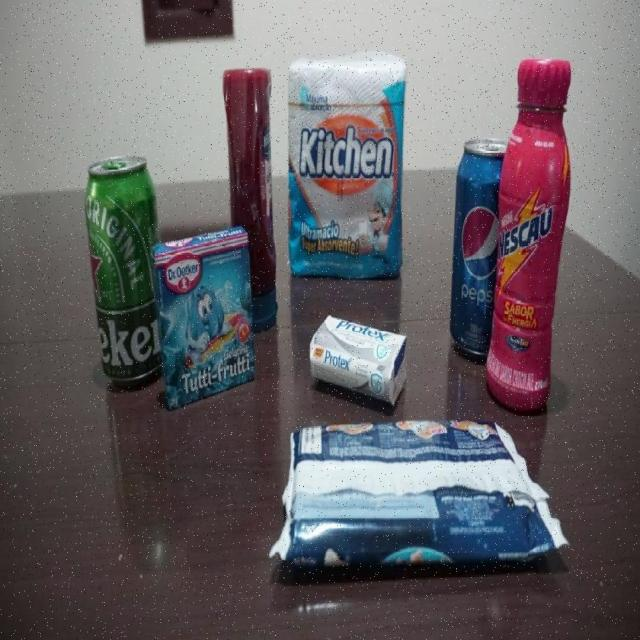BeerCan: (82, 153, 166, 387)
ChocolateMilk: (482, 57, 572, 412)
Gelatine: (153, 226, 256, 412)
Ketchup: (222, 66, 280, 332)
Napkin: (286, 48, 411, 281)
Popcorn: (285, 418, 571, 574)
Soap: (307, 312, 407, 410)
SodaCan: (448, 134, 503, 358)
